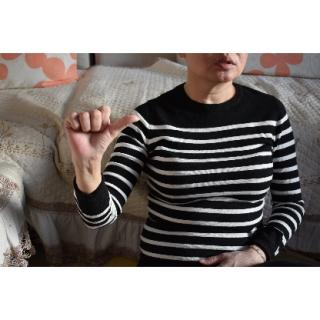DAD: (60, 103, 143, 168)
